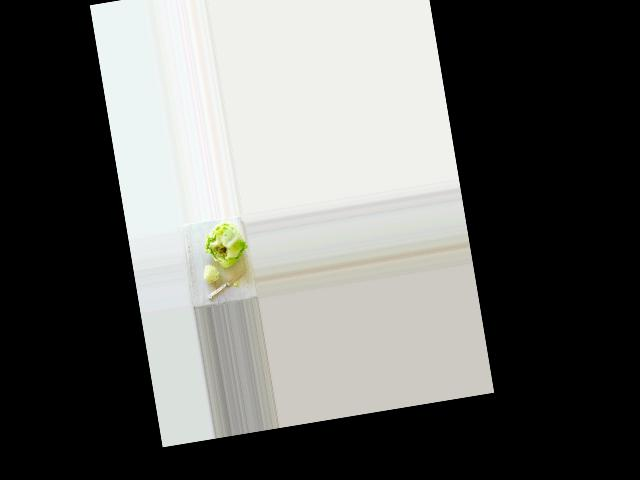lettuce: (201, 216, 247, 266)
